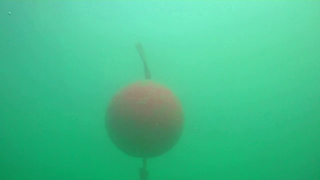bubble: (7, 11, 12, 16)
buoy: (103, 80, 185, 159)
